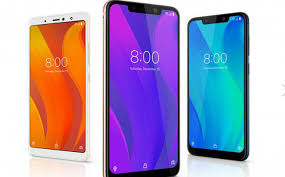vsmart: (100, 1, 181, 177), (22, 10, 94, 164), (187, 10, 252, 162)
